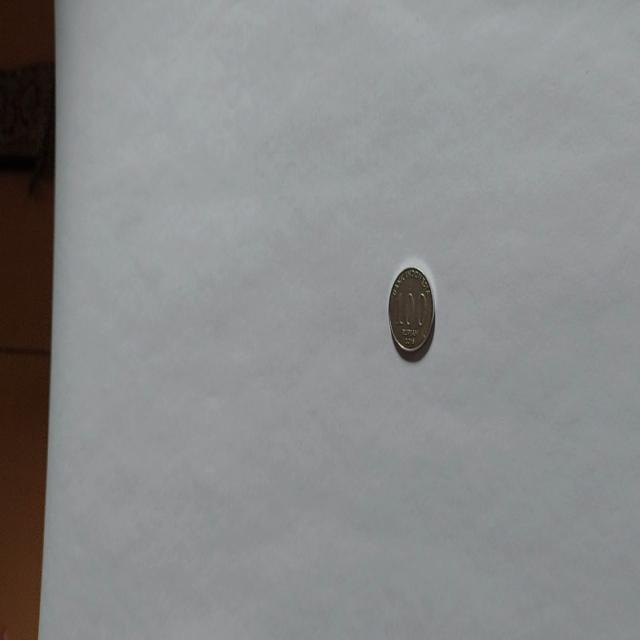seratus rupiah: (387, 264, 435, 361)
